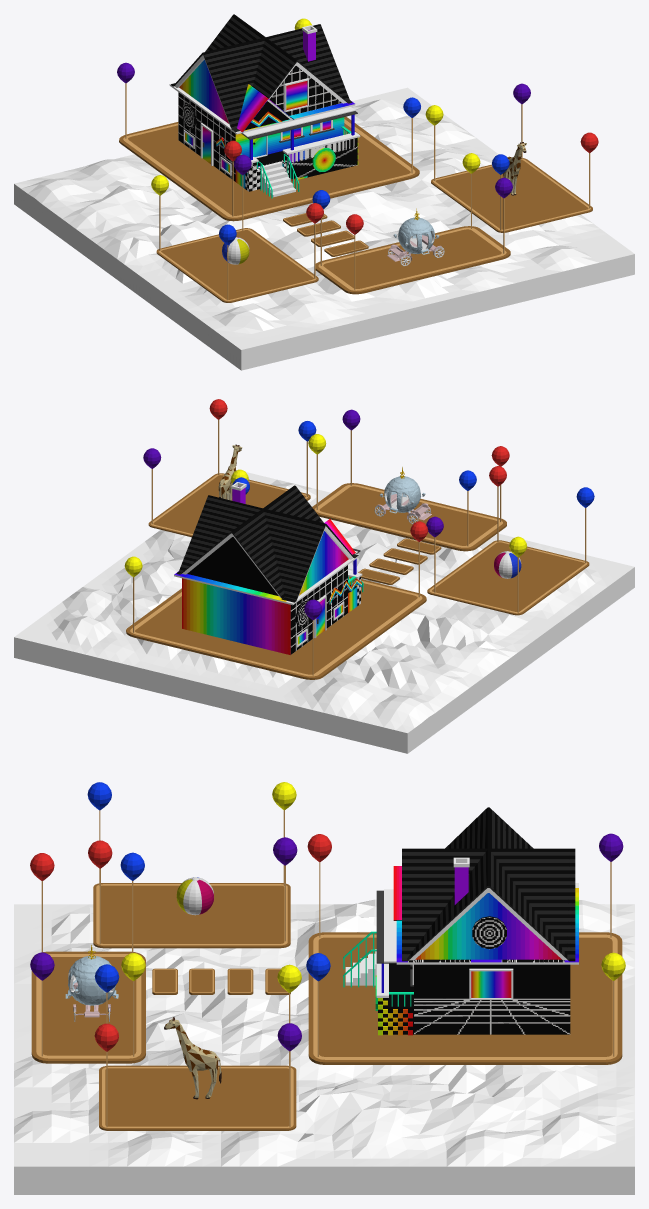
3 renders of one model, top to bottom at view 1: azimuth 30°, elevation 25°; view 2: azimuth 150°, elevation 25°; view 3: azimuth 270°, elevation 25°, orthographic. The views are drawn at different scales.
Visible parts, largest first — view 1: Cube.013, Cube.1320, VEHICLES_FANTASY_CARRIAGE, OBJRANDOM_BEACHBALL, ANIMAL_JIRAFA; view 2: Cube.013, Cube.1320, VEHICLES_FANTASY_CARRIAGE, OBJRANDOM_BEACHBALL, ANIMAL_JIRAFA; view 3: Cube.013, Cube.1320, VEHICLES_FANTASY_CARRIAGE, ANIMAL_JIRAFA, OBJRANDOM_BEACHBALL.
Boxes of the visible parts, x1,y1,x2,y2 form: Cube.013: (14, 18, 634, 370); Cube.1320: (169, 14, 360, 198); VEHICLES_FANTASY_CARRIAGE: (387, 208, 444, 265); OBJRANDOM_BEACHBALL: (222, 237, 249, 264); ANIMAL_JIRAFA: (503, 142, 526, 195); Cube.013: (14, 399, 634, 753); Cube.1320: (174, 482, 363, 654); VEHICLES_FANTASY_CARRIAGE: (374, 467, 431, 524); OBJRANDOM_BEACHBALL: (494, 551, 521, 578); ANIMAL_JIRAFA: (218, 444, 242, 500); Cube.013: (14, 782, 634, 1194); Cube.1320: (343, 807, 578, 1035); VEHICLES_FANTASY_CARRIAGE: (65, 945, 118, 1021); ANIMAL_JIRAFA: (164, 1017, 221, 1099); OBJRANDOM_BEACHBALL: (176, 877, 213, 915).
Bounding box in the file's own units: 4000 × 1691 × 4000.
Materials: 30 (3 with a texture image).
